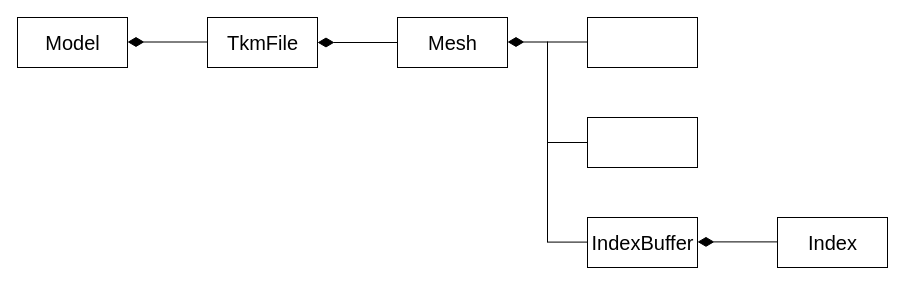
The diagram is 905 pixels wide and 285 high, and some of its shapes have lost their labels. Here are the shapes that lost their labels. From the top down, the centre of each, then its label:
At (642,42): "Material".
At (642,142): "Vertex".
